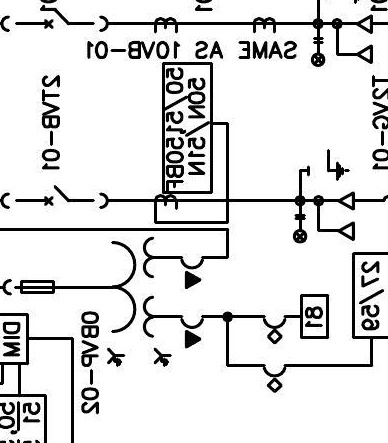22_gs: (306, 148, 351, 182)
22_ll: (310, 36, 326, 68), (292, 213, 308, 244)
22_vt_3p: (2, 236, 205, 367)
terminator_double: (335, 14, 374, 65), (317, 191, 356, 242)
